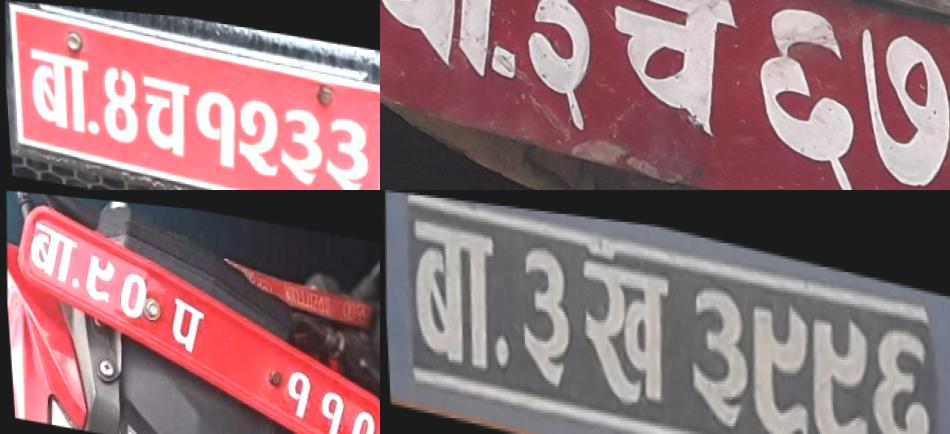0: (115, 261, 155, 324), (343, 393, 378, 434)
1: (186, 78, 241, 170), (281, 361, 314, 418), (315, 381, 346, 434)
2: (231, 85, 285, 175)
3: (509, 0, 608, 138), (680, 268, 754, 426), (507, 231, 579, 391), (316, 102, 376, 190), (274, 93, 326, 184)
4: (93, 56, 145, 144)
6: (738, 0, 866, 190), (864, 302, 937, 434)
7: (845, 1, 950, 190)
9: (743, 279, 816, 434), (804, 289, 876, 434), (78, 249, 118, 308)
ba: (398, 201, 500, 378), (380, 0, 525, 88), (18, 40, 94, 136), (25, 217, 80, 284)
cha: (586, 0, 750, 155), (134, 64, 197, 162)
kha: (569, 244, 678, 413)
pa: (164, 292, 212, 363)
